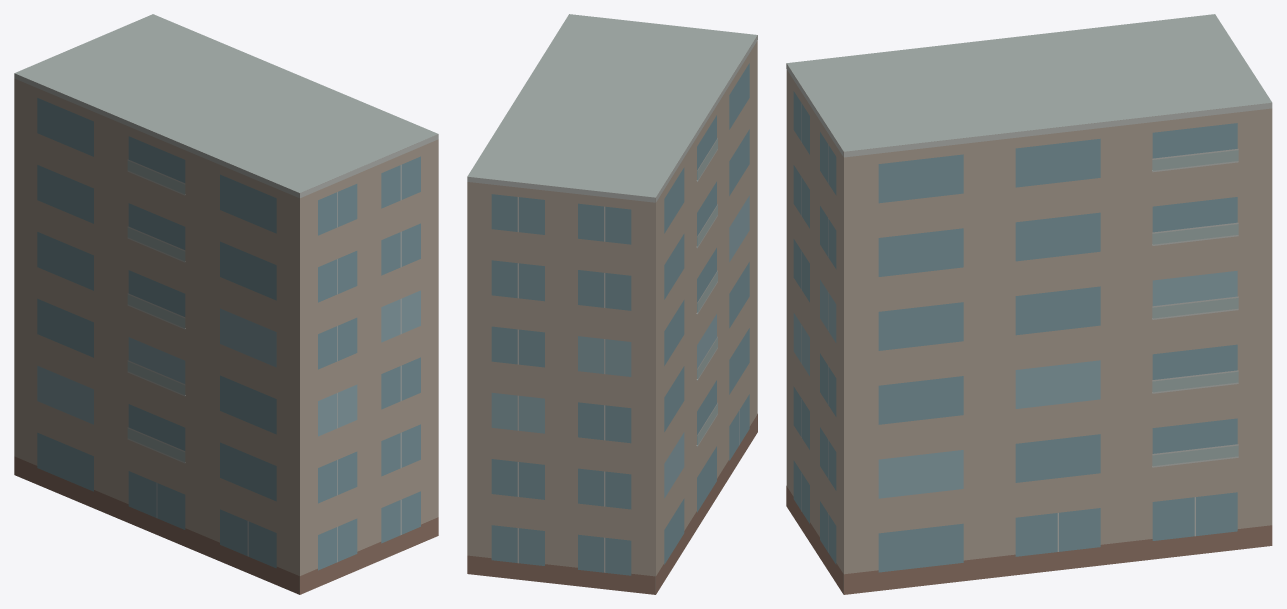
File: survey-upis-32562098.glb
The picture shows the model from 3 angles, left to right: view 1: azimuth 30°, elevation 25°; view 2: azimuth 150°, elevation 25°; view 3: azimuth 270°, elevation 25°; orthographic projection. The views are drawn at different scales.
Visible parts, largest first — view 1: survey-upis-32562098.tmp; view 2: survey-upis-32562098.tmp; view 3: survey-upis-32562098.tmp.
Part boxes in pixels (left/top/right/bottom): survey-upis-32562098.tmp: left=14, top=14, right=438, bottom=594; survey-upis-32562098.tmp: left=467, top=14, right=757, bottom=594; survey-upis-32562098.tmp: left=786, top=14, right=1272, bottom=594.
Bounding box in the file's own units: 12.55 × 18.8 × 18.7.
